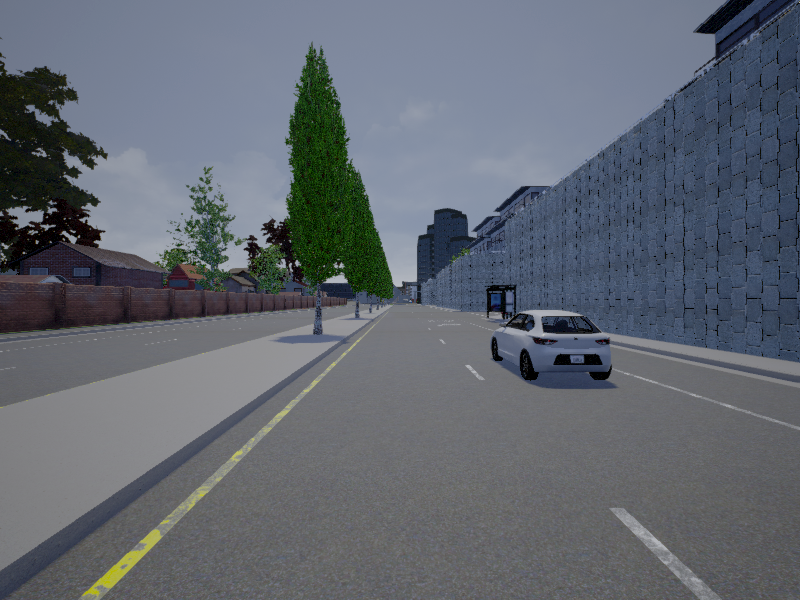Benign: (493, 308, 617, 384)
